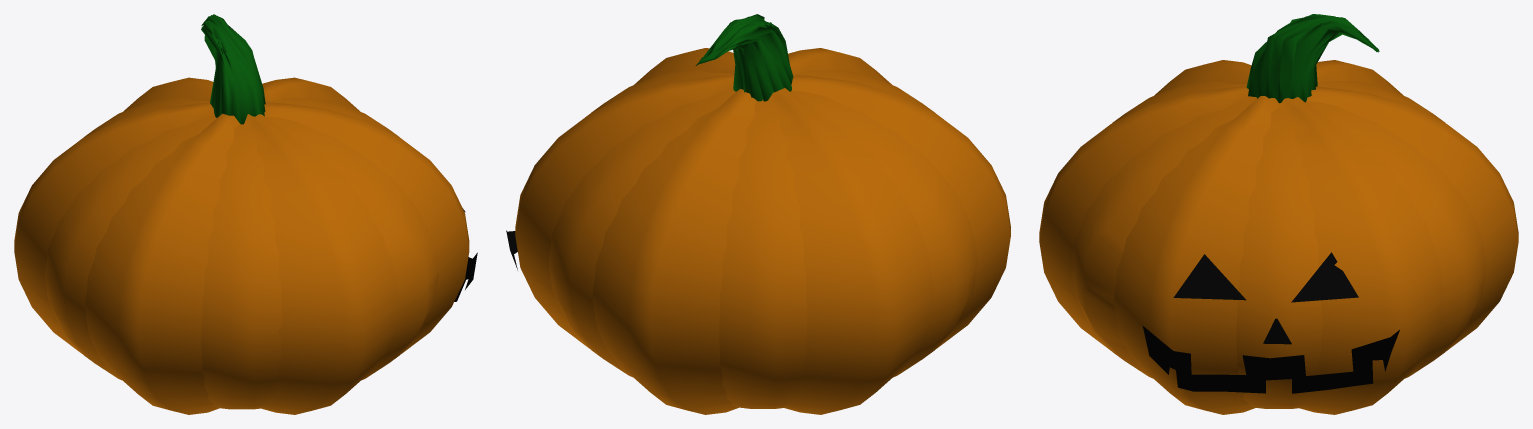
Rendered from kabotya.fbx.
The picture shows the model from 3 angles, left to right: view 1: azimuth 30°, elevation 25°; view 2: azimuth 150°, elevation 25°; view 3: azimuth 270°, elevation 25°; orthographic projection. The views are drawn at different scales.
Parts seen in each view (by area): view 1: 球.001, 円柱; view 2: 球.001, 円柱; view 3: 球.001, 円, 円柱, 球.002.
Boxes of the visible parts, bbox=[...] form: 球.001: bbox=[14, 77, 469, 414]; 円柱: bbox=[201, 14, 265, 124]; 球.001: bbox=[515, 48, 1010, 414]; 円柱: bbox=[696, 14, 793, 101]; 球.001: bbox=[1039, 60, 1518, 414]; 円: bbox=[1143, 326, 1399, 393]; 円柱: bbox=[1246, 14, 1379, 103]; 球.002: bbox=[1173, 252, 1358, 302].
Size of the model in its own units: 173 by 157 by 184.
